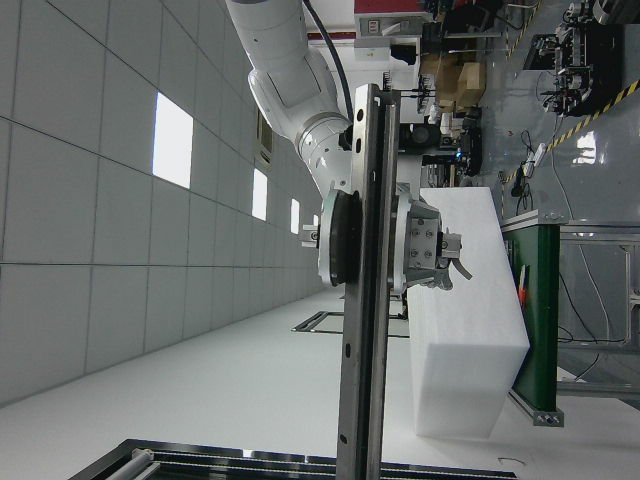right: (335, 83, 401, 479)
